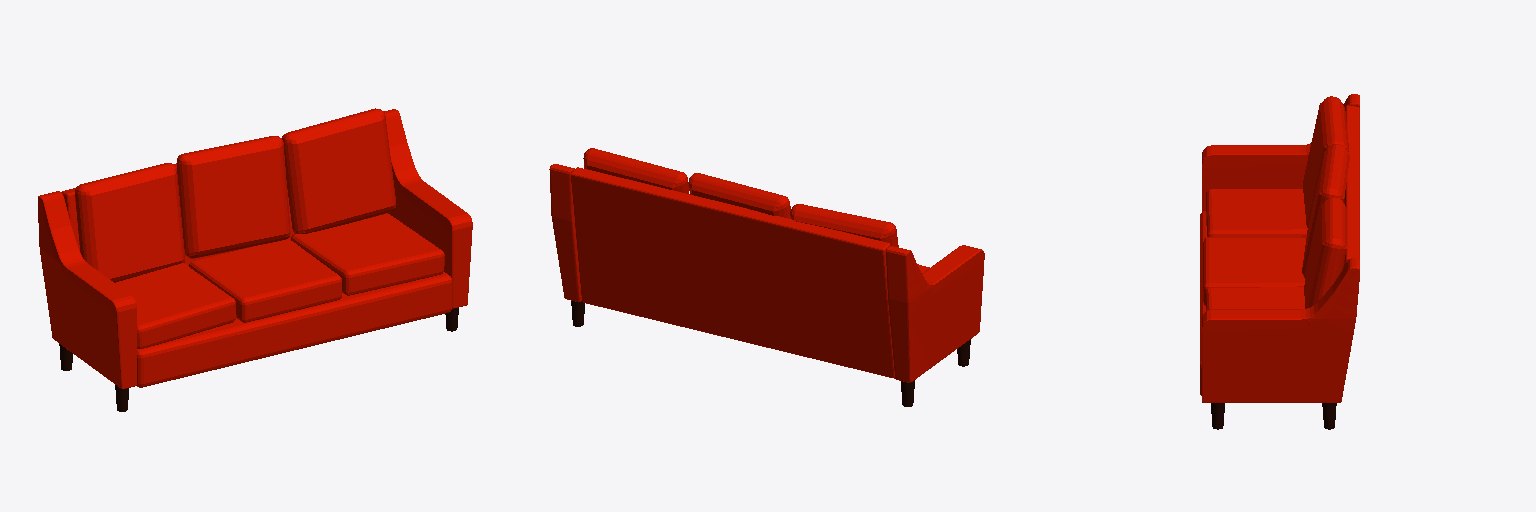
File: couch.obj
The picture shows the model from 3 angles: view 1: azimuth 30°, elevation 25°; view 2: azimuth 150°, elevation 25°; view 3: azimuth 270°, elevation 25°; orthographic projection.
Parts seen in each view (by area): view 1: pCylinder18; view 2: pCylinder18; view 3: pCylinder18.
Part boxes in pixels (left/top/right/bottom): pCylinder18: left=38, top=108, right=472, bottom=411; pCylinder18: left=549, top=148, right=984, bottom=406; pCylinder18: left=1200, top=94, right=1359, bottom=429.
Size of the model in its own units: 282 by 137 by 110.